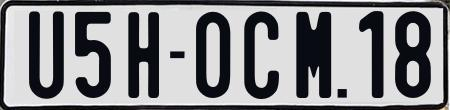0: (196, 11, 231, 97)
1: (358, 9, 389, 102)
5: (74, 12, 115, 103)
8: (392, 10, 430, 99)
C: (242, 10, 280, 102)
H: (128, 10, 164, 97)
M: (296, 9, 334, 99)
U: (29, 10, 67, 104)
